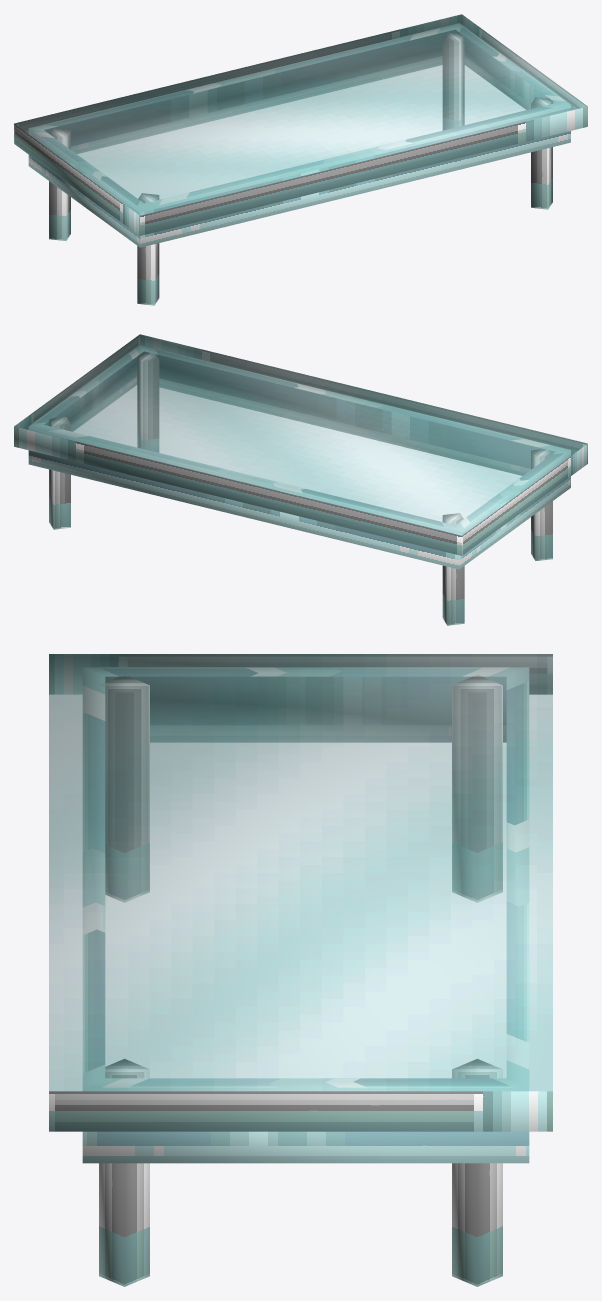
3 views of the same model, one above another, from view 1: azimuth 30°, elevation 25°; view 2: azimuth 150°, elevation 25°; view 3: azimuth 270°, elevation 25° (orthographic). The views are drawn at different scales.
Parts seen in each view (by area): view 1: 3102IMRL08_01; view 2: 3102IMRL08_01; view 3: 3102IMRL08_01.
Boxes of the visible parts, <box> form: 3102IMRL08_01: <box>14,14,587,305</box>; 3102IMRL08_01: <box>14,334,587,625</box>; 3102IMRL08_01: <box>49,654,552,1286</box>.
Size of the model in its own units: 1.95 by 0.4399 by 0.9502.
Materials: 2 (2 with a texture image).
